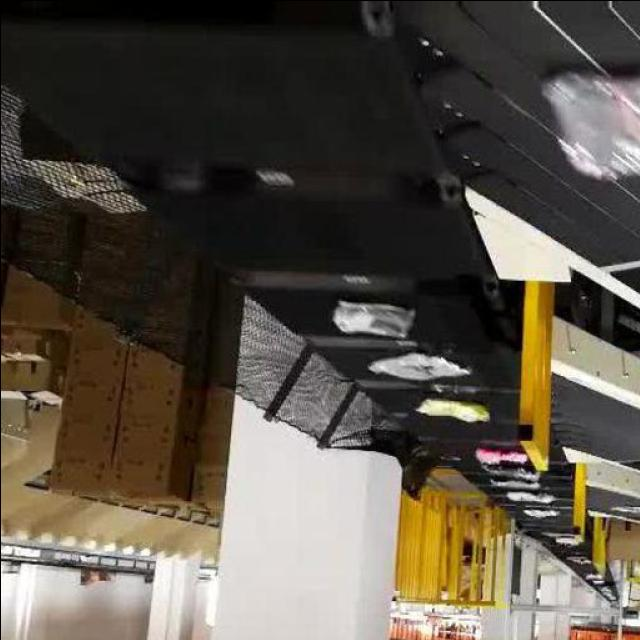conveyor: (0, 0, 621, 606)
